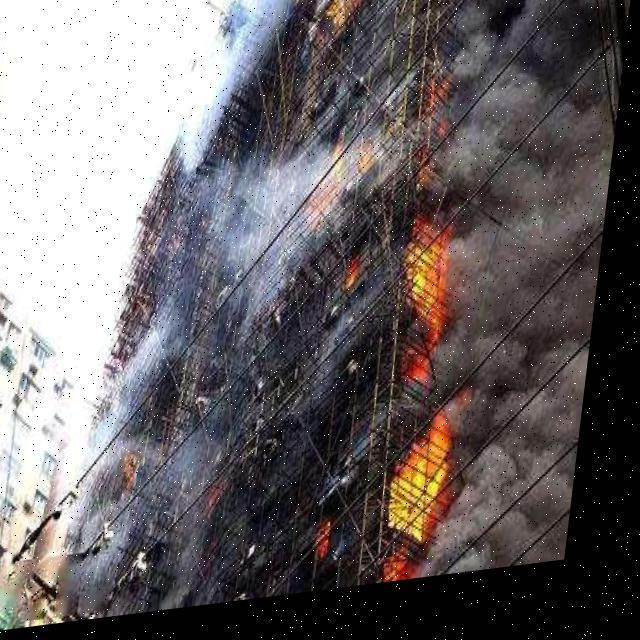Fire: (386, 205, 503, 563), (328, 0, 366, 25)
